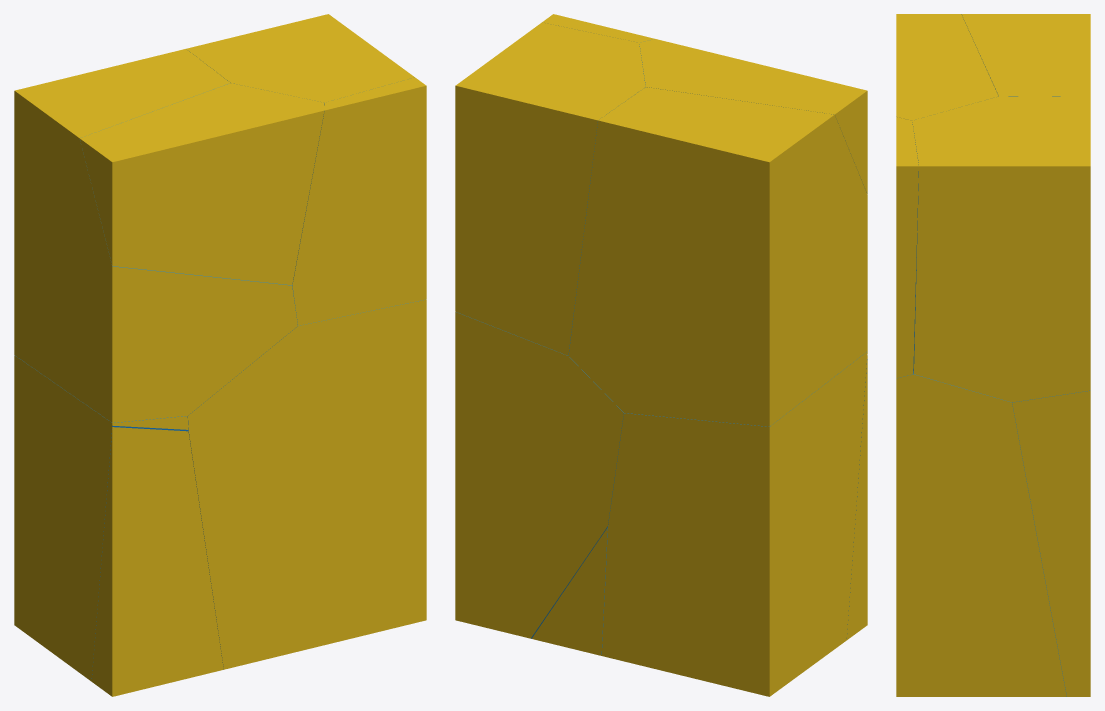
The model's file is the_broken_brick.fbx.
3 renders of one model, left to right at view 1: azimuth 30°, elevation 25°; view 2: azimuth 150°, elevation 25°; view 3: azimuth 270°, elevation 25°, orthographic.
Visible parts, largest first — view 1: Cube.001_cell.004, Cube.001_cell.003, Cube.001_cell.001, Cube.001_cell, Cube.001_cell.005, Cube.001_cell.002, Cube.001_cell.007; view 2: Cube.001_cell.003, Cube.001_cell.002, Cube.001_cell.007, Cube.001_cell.006, Cube.001_cell.001, Cube.001_cell.004, Cube.001_cell, Cube.001_cell.005; view 3: Cube.001_cell.007, Cube.001_cell.004, Cube.001_cell.006, Cube.001_cell.003, Cube.001_cell.001, Cube.001_cell.005.
Part boxes in pixels (box(x1,y1,x2,y2)): Cube.001_cell.004: box(187, 299, 426, 669); Cube.001_cell.003: box(14, 49, 297, 422); Cube.001_cell.001: box(79, 83, 324, 285); Cube.001_cell: box(91, 427, 223, 696); Cube.001_cell.005: box(292, 77, 426, 325); Cube.001_cell.002: box(14, 355, 188, 681); Cube.001_cell.007: box(186, 14, 414, 103); Cube.001_cell.003: box(568, 87, 867, 426); Cube.001_cell.002: box(601, 351, 867, 696); Cube.001_cell.007: box(455, 22, 645, 355); Cube.001_cell.006: box(455, 312, 623, 638); Cube.001_cell.001: box(639, 39, 867, 193); Cube.001_cell.004: box(531, 524, 608, 655); Cube.001_cell: box(846, 355, 867, 639); Cube.001_cell.005: box(542, 14, 654, 42); Cube.001_cell.007: box(912, 96, 1090, 402); Cube.001_cell.004: box(896, 371, 1066, 696); Cube.001_cell.006: box(1012, 390, 1090, 696); Cube.001_cell.003: box(961, 14, 1090, 96); Cube.001_cell.001: box(896, 14, 998, 120); Cube.001_cell.005: box(896, 117, 918, 378).
Bounding box in the file's own units: 370 × 602 × 200.
